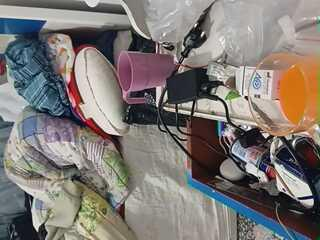cup: (249, 53, 319, 135), (117, 51, 175, 103)
